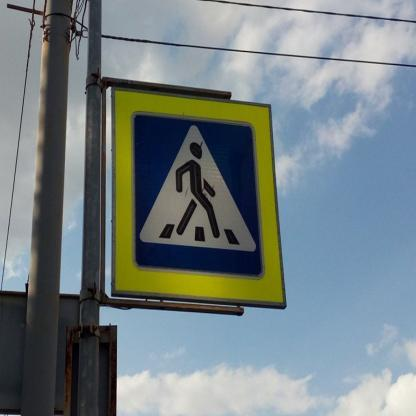road_sign: (112, 88, 284, 307)
